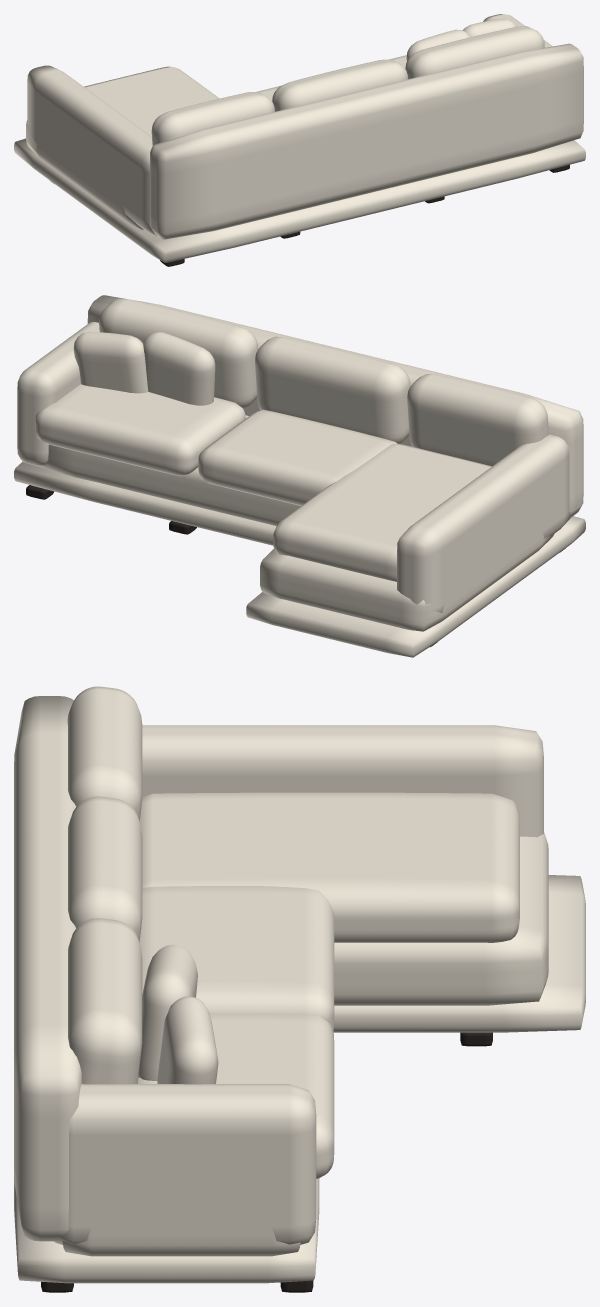
The model's file is luna_right_chaise_sofa.glb.
3 renders of one model, top to bottom at view 1: azimuth 30°, elevation 25°; view 2: azimuth 150°, elevation 25°; view 3: azimuth 270°, elevation 25°, orthographic. The views are drawn at different scales.
Visible parts, largest first — view 1: Upholstered Body Arms and Plinth, Three Loose Back Cushions, Two Main Seats and Long Right Chaise, Two Removable Accent Pillows, Eight Low Dark Block Feet; view 2: Upholstered Body Arms and Plinth, Two Main Seats and Long Right Chaise, Three Loose Back Cushions, Two Removable Accent Pillows, Eight Low Dark Block Feet; view 3: Upholstered Body Arms and Plinth, Two Main Seats and Long Right Chaise, Three Loose Back Cushions, Two Removable Accent Pillows, Eight Low Dark Block Feet.
Boxes of the visible parts, x1,y1,x2,y2 form: Upholstered Body Arms and Plinth: (14,14,585,262); Three Loose Back Cushions: (151,26,544,144); Two Main Seats and Long Right Chaise: (84,55,406,136); Two Removable Accent Pillows: (406,18,516,60); Eight Low Dark Block Feet: (51,165,569,266); Upholstered Body Arms and Plinth: (14,295,585,657); Two Main Seats and Long Right Chaise: (35,384,491,581); Three Loose Back Cushions: (99,298,548,466); Two Removable Accent Pillows: (73,331,215,405); Eight Low Dark Block Feet: (26,485,565,646); Upholstered Body Arms and Plinth: (14,696,585,1283); Two Main Seats and Long Right Chaise: (137,792,519,1178); Three Loose Back Cushions: (67,686,142,1084); Two Removable Accent Pillows: (138,944,218,1084); Eight Low Dark Block Feet: (41,1032,492,1292).
Size of the model in its own units: 2.65 by 0.82 by 1.65.
Materials: 2 (1 with a texture image).
